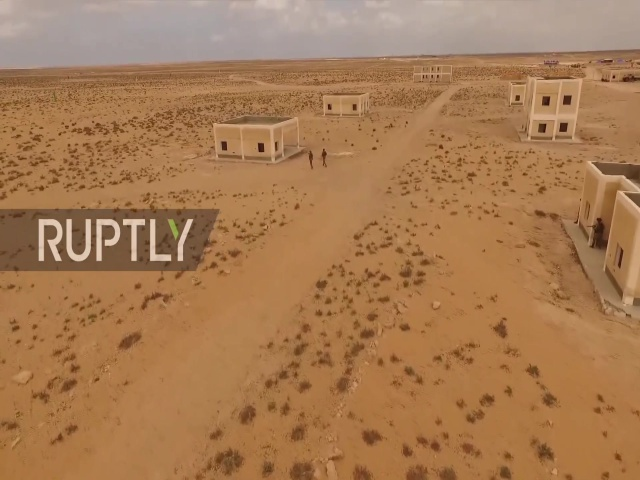person: (319, 147, 329, 167), (307, 149, 315, 170)
